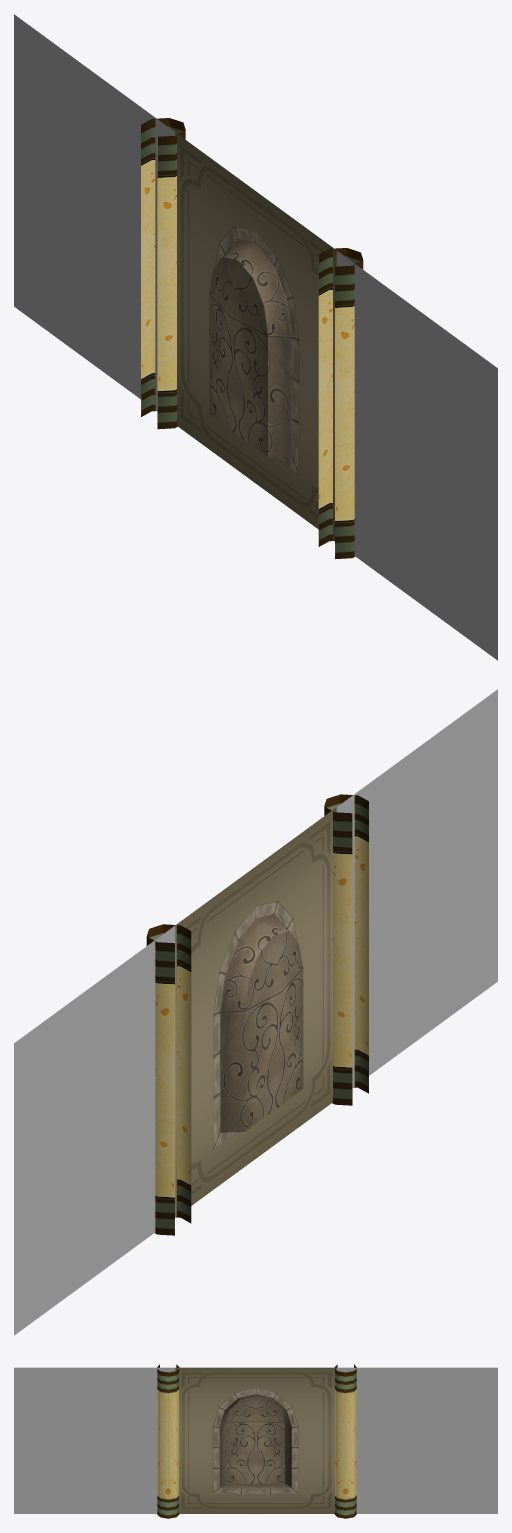
Rendered from IceMaze_Wall05.fbx.
The picture shows the model from 3 angles, top to bottom: view 1: azimuth 30°, elevation 25°; view 2: azimuth 150°, elevation 25°; view 3: azimuth 270°, elevation 25°; orthographic projection. The views are drawn at different scales.
Parts seen in each view (by area): view 1: WallMesh, LightL, LightR; view 2: WallMesh, LightR, LightL; view 3: WallMesh, LightR, LightL.
Boxes of the visible parts, x1,y1,x2,y2 form: WallMesh: (14,14,497,660); LightL: (318,248,363,558); LightR: (141,118,185,429); WallMesh: (14,689,497,1335); LightR: (146,924,191,1235); LightL: (324,794,368,1105); WallMesh: (14,1367,497,1513); LightR: (334,1364,356,1518); LightL: (157,1364,179,1518).
Size of the model in its own units: 0.9072 by 6.02 by 18.
